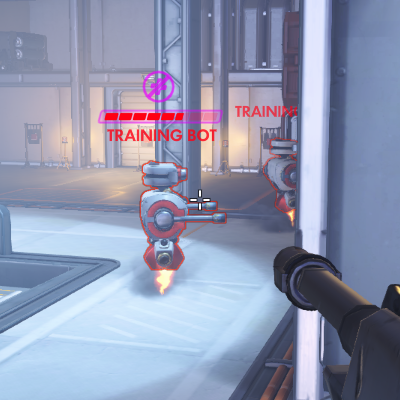hpbar: (104, 112, 218, 121)
